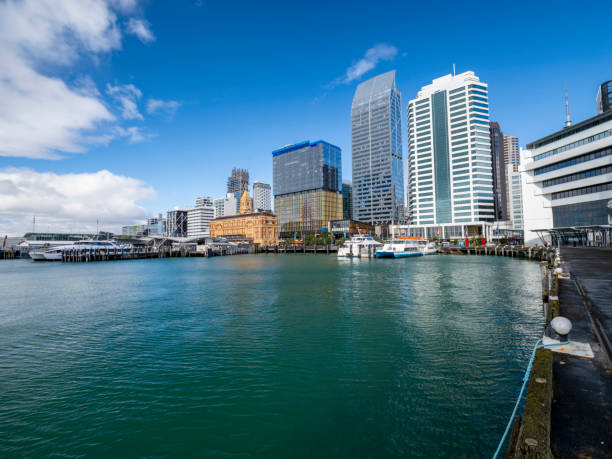ferry: (29, 240, 131, 260), (338, 229, 384, 257), (376, 238, 423, 258)
